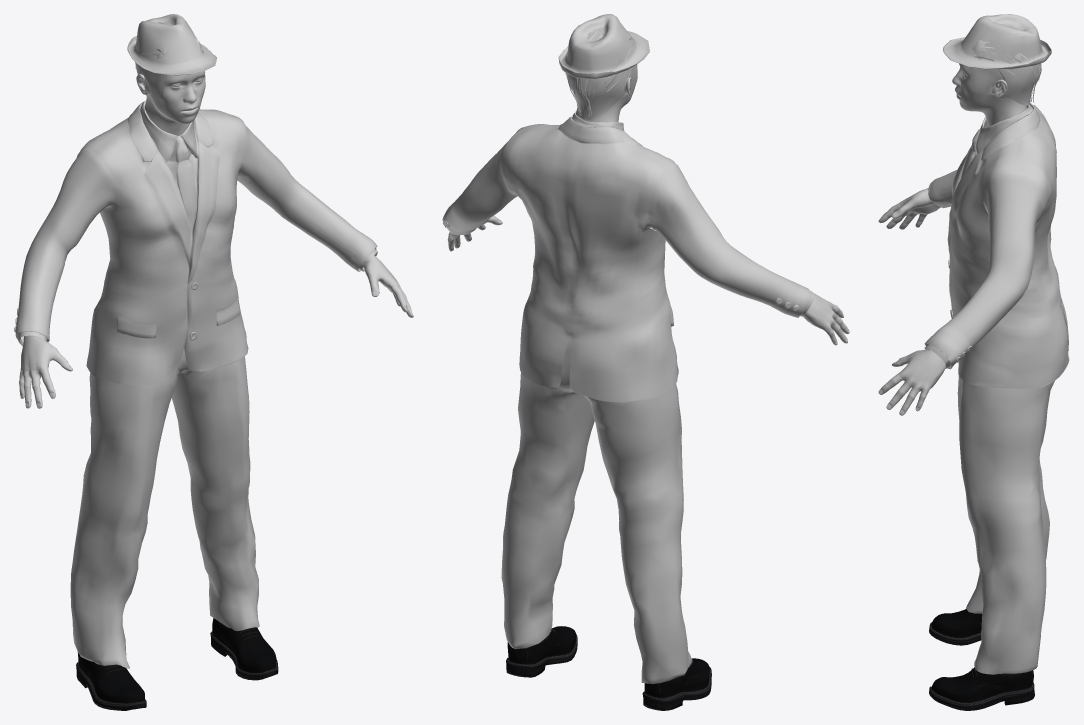
The model's file is person_1.fbx.
3 renders of one model, left to right at view 1: azimuth 30°, elevation 25°; view 2: azimuth 150°, elevation 25°; view 3: azimuth 270°, elevation 25°, orthographic. The views are drawn at different scales.
Parts seen in each view (by area): view 1: male_elegantsuit01Mesh, person_1Mesh, shoes03Mesh, fedoraMesh, short04Mesh; view 2: male_elegantsuit01Mesh, shoes03Mesh, fedoraMesh, short04Mesh, person_1Mesh; view 3: male_elegantsuit01Mesh, person_1Mesh, shoes03Mesh, fedoraMesh, short04Mesh.
Part boxes in pixels (x1,y1,x2,y2): male_elegantsuit01Mesh: [14, 100, 377, 668]; person_1Mesh: [19, 71, 413, 408]; shoes03Mesh: [76, 618, 278, 710]; fedoraMesh: [127, 14, 216, 75]; short04Mesh: [135, 22, 205, 99]; male_elegantsuit01Mesh: [442, 111, 814, 684]; shoes03Mesh: [506, 626, 711, 710]; fedoraMesh: [558, 14, 649, 78]; short04Mesh: [565, 31, 637, 120]; person_1Mesh: [447, 77, 849, 345]; male_elegantsuit01Mesh: [924, 102, 1069, 674]; person_1Mesh: [878, 63, 1026, 415]; shoes03Mesh: [929, 609, 1034, 710]; fedoraMesh: [943, 14, 1051, 69]; short04Mesh: [968, 23, 1041, 105].
Bounding box in the file's own units: 105 × 171 × 45.3.
